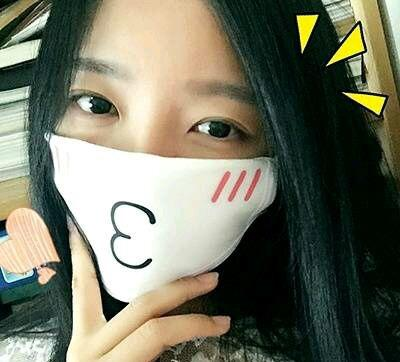OK: (34, 55, 263, 284)
